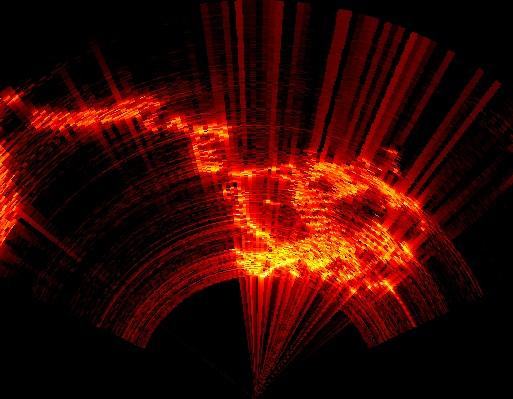shipwreck: (26, 94, 418, 278)
